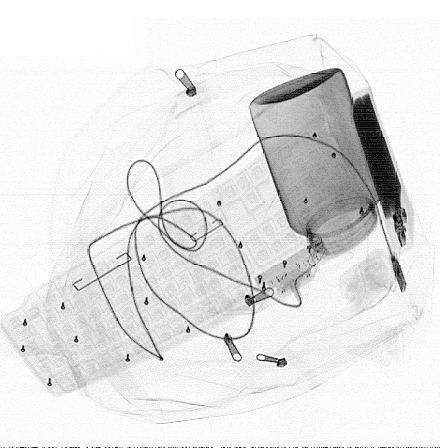Powerbank: (350, 86, 415, 254)
